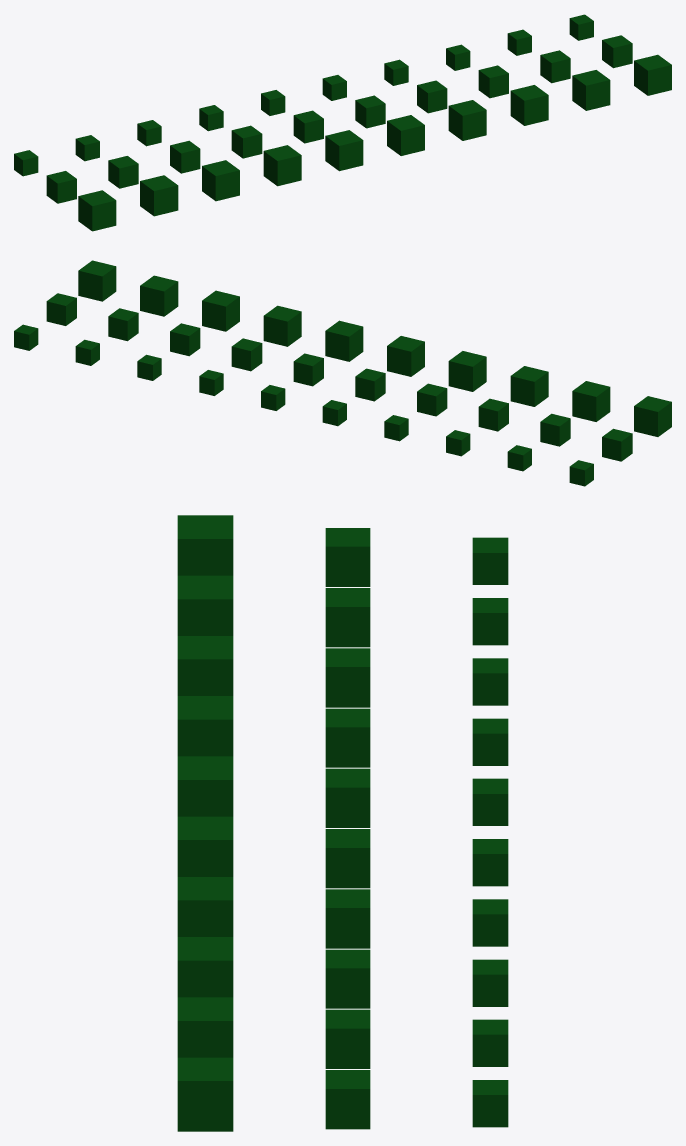
Rendered from FlowersLvl4Wild.fbx.
3 views of the same model, one above another, from view 1: azimuth 30°, elevation 25°; view 2: azimuth 150°, elevation 25°; view 3: azimuth 270°, elevation 25° (orthographic). The views are drawn at different scales.
Visible parts, largest first — view 1: Tansy3, Yarrow3, Crocus3, LilyOfTheValley3, Poppy3, Celandine3, Iris3, Delphinium3, Buttercup3, Snowdrop3, Tansy2, LilyOfTheValley2 (+18 smaller); view 2: LilyOfTheValley3, Iris3, Snowdrop3, Delphinium3, Buttercup3, Tansy3, Yarrow3, Poppy3, Celandine3, Crocus3, LilyOfTheValley2, Delphinium2 (+18 smaller); view 3: Delphinium3, Iris3, Poppy3, Celandine3, Crocus3, Buttercup3, Tansy3, Yarrow3, LilyOfTheValley3, Snowdrop3, LilyOfTheValley2, Snowdrop2 (+18 smaller).
Part boxes in pixels (x1,y1,x2,y2): Tansy3: [263, 145, 301, 186]; Yarrow3: [140, 175, 178, 216]; Crocus3: [510, 85, 548, 125]; LilyOfTheValley3: [448, 100, 486, 140]; Poppy3: [325, 130, 363, 171]; Celandine3: [78, 190, 116, 231]; Iris3: [572, 70, 610, 110]; Delphinium3: [634, 54, 671, 95]; Buttercup3: [387, 115, 424, 155]; Snowdrop3: [202, 160, 239, 201]; Tansy2: [231, 125, 262, 158]; LilyOfTheValley2: [417, 80, 447, 113]; LilyOfTheValley3: [263, 305, 301, 346]; Iris3: [140, 275, 178, 316]; Snowdrop3: [510, 366, 548, 406]; Delphinium3: [78, 260, 116, 301]; Buttercup3: [325, 320, 363, 361]; Tansy3: [448, 351, 486, 391]; Yarrow3: [572, 381, 610, 421]; Poppy3: [387, 336, 424, 376]; Celandine3: [634, 396, 671, 436]; Crocus3: [202, 290, 239, 331]; LilyOfTheValley2: [231, 338, 262, 371]; Delphinium2: [46, 293, 76, 325]; Delphinium3: [177, 1057, 233, 1131]; Iris3: [177, 997, 233, 1057]; Poppy3: [177, 756, 233, 816]; Celandine3: [177, 515, 233, 575]; Crocus3: [177, 937, 233, 997]; Buttercup3: [177, 816, 233, 876]; Tansy3: [177, 696, 233, 756]; Yarrow3: [177, 575, 233, 635]; LilyOfTheValley3: [177, 877, 233, 936]; Snowdrop3: [177, 636, 233, 695]; LilyOfTheValley2: [325, 889, 370, 948]; Snowdrop2: [325, 648, 370, 707].
Bounding box in the file's own units: 939 × 39.06 × 232.
